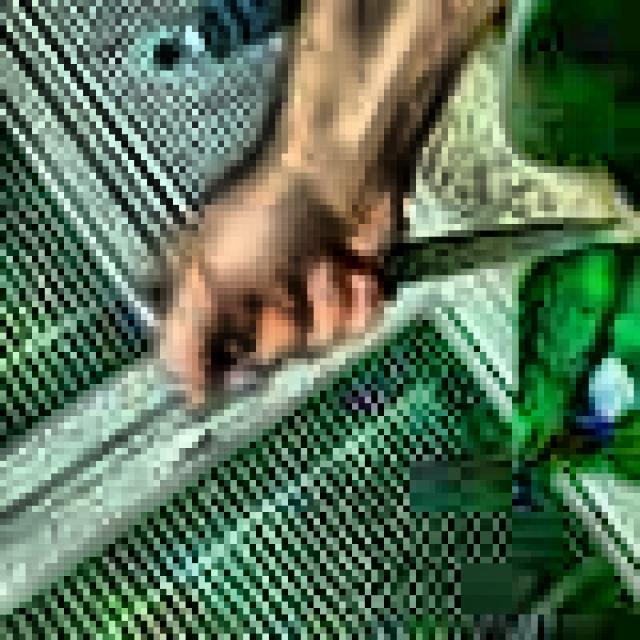knife: (366, 217, 627, 292)
